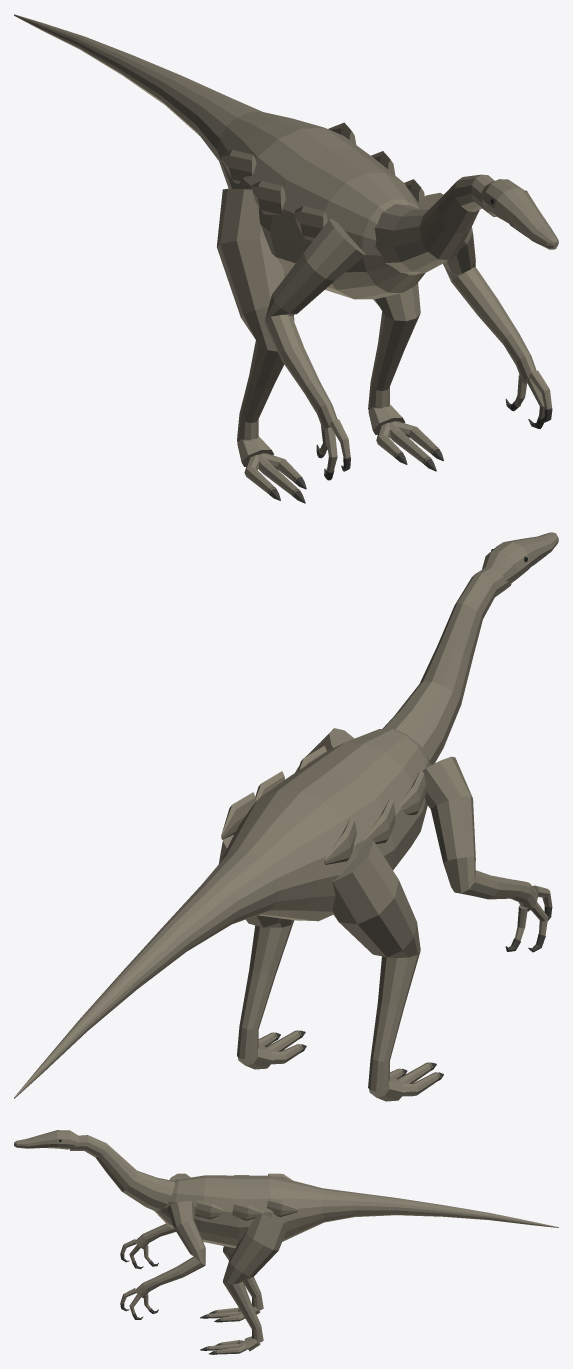
3 views of the same model, one above another, from view 1: azimuth 30°, elevation 25°; view 2: azimuth 150°, elevation 25°; view 3: azimuth 270°, elevation 25° (orthographic). The views are drawn at different scales.
Parts seen in each view (by area): view 1: axial-torso-long-tail, left-hindlimb, left-forelimb-medial-palm, elongated-neck, six-forward-functional-toes-and-pads, right-forelimb-medial-palm, right-hindlimb, inferred-broad-short-down-groups, small-low-head, six-separated-grasping-finger-rays, hand-and-foot-curved-keratin-claws; view 2: axial-torso-long-tail, left-hindlimb, elongated-neck, left-forelimb-medial-palm, right-hindlimb, inferred-broad-short-down-groups, six-forward-functional-toes-and-pads, small-low-head, six-separated-grasping-finger-rays; view 3: axial-torso-long-tail, right-hindlimb, elongated-neck, right-forelimb-medial-palm, inferred-broad-short-down-groups, six-forward-functional-toes-and-pads, small-low-head, six-separated-grasping-finger-rays, left-forelimb-medial-palm, left-hindlimb, hand-and-foot-curved-keratin-claws.
Part boxes in pixels (<box>): axial-torso-long-tail: <box>14,14,425,299</box>; left-hindlimb: <box>216,188,294,442</box>; left-forelimb-medial-palm: <box>264,218,365,431</box>; elongated-neck: <box>375,174,496,274</box>; six-forward-functional-toes-and-pads: <box>237,404,439,495</box>; right-forelimb-medial-palm: <box>418,193,536,383</box>; right-hindlimb: <box>368,283,420,410</box>; inferred-broad-short-down-groups: <box>221,122,424,240</box>; small-low-head: <box>481,179,558,249</box>; six-separated-grasping-finger-rays: <box>320,370,551,471</box>; hand-and-foot-curved-keratin-claws: <box>268,398,552,503</box>; axial-torso-long-tail: <box>14,729,431,1098</box>; left-hindlimb: <box>332,837,420,1091</box>; elongated-neck: <box>382,567,511,764</box>; left-forelimb-medial-palm: <box>418,756,538,911</box>; right-hindlimb: <box>219,834,294,1059</box>; inferred-broad-short-down-groups: <box>221,746,425,864</box>; six-forward-functional-toes-and-pads: <box>238,1030,440,1101</box>; small-low-head: <box>482,532,558,583</box>; six-separated-grasping-finger-rays: <box>515,885,551,940</box>; axial-torso-long-tail: <box>154,1175,558,1248</box>; right-hindlimb: <box>223,1213,288,1342</box>; elongated-neck: <box>70,1135,175,1211</box>; right-forelimb-medial-palm: <box>135,1201,205,1297</box>; inferred-broad-short-down-groups: <box>195,1173,298,1220</box>; six-forward-functional-toes-and-pads: <box>207,1306,260,1354</box>; small-low-head: <box>14,1130,78,1149</box>; six-separated-grasping-finger-rays: <box>120,1239,151,1314</box>; left-forelimb-medial-palm: <box>135,1173,190,1249</box>; left-hindlimb: <box>223,1246,263,1310</box>; hand-and-foot-curved-keratin-claws: <box>120,1253,222,1354</box>.
Size of the model in its own units: 0.9339 by 1.65 by 4.
